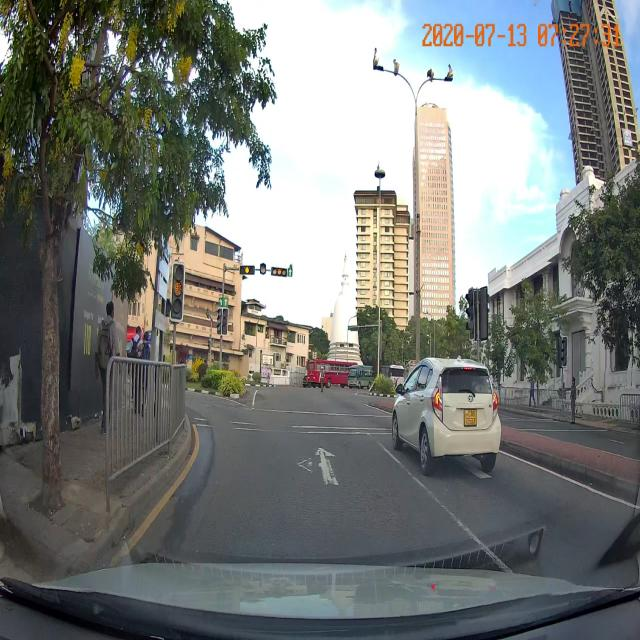Strelka vpered - vlevo: (295, 443, 341, 487)
